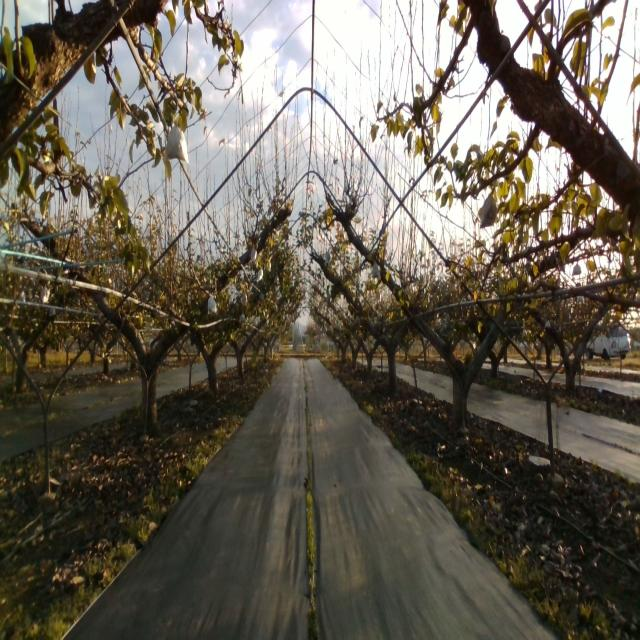pearbags: (163, 119, 186, 163), (479, 186, 499, 229), (207, 294, 217, 316), (371, 260, 381, 281)
